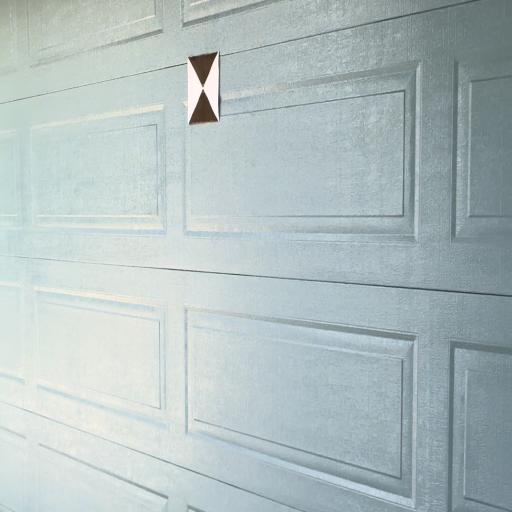target: (188, 54, 219, 123)
